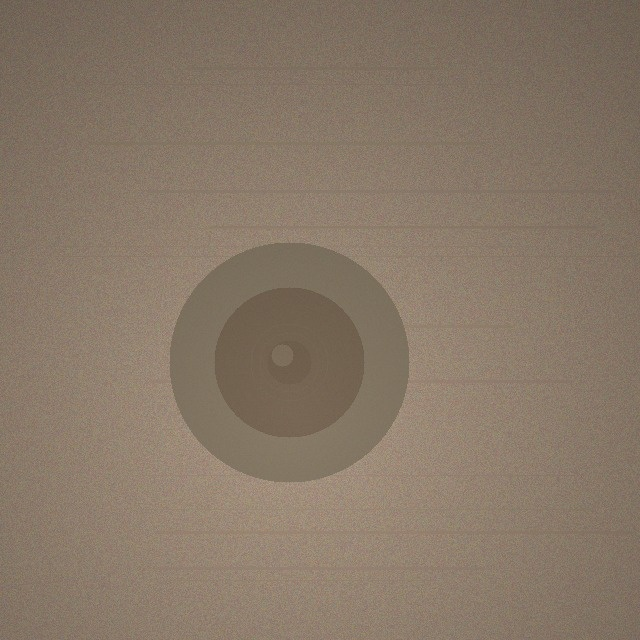good: (169, 242, 409, 482)
